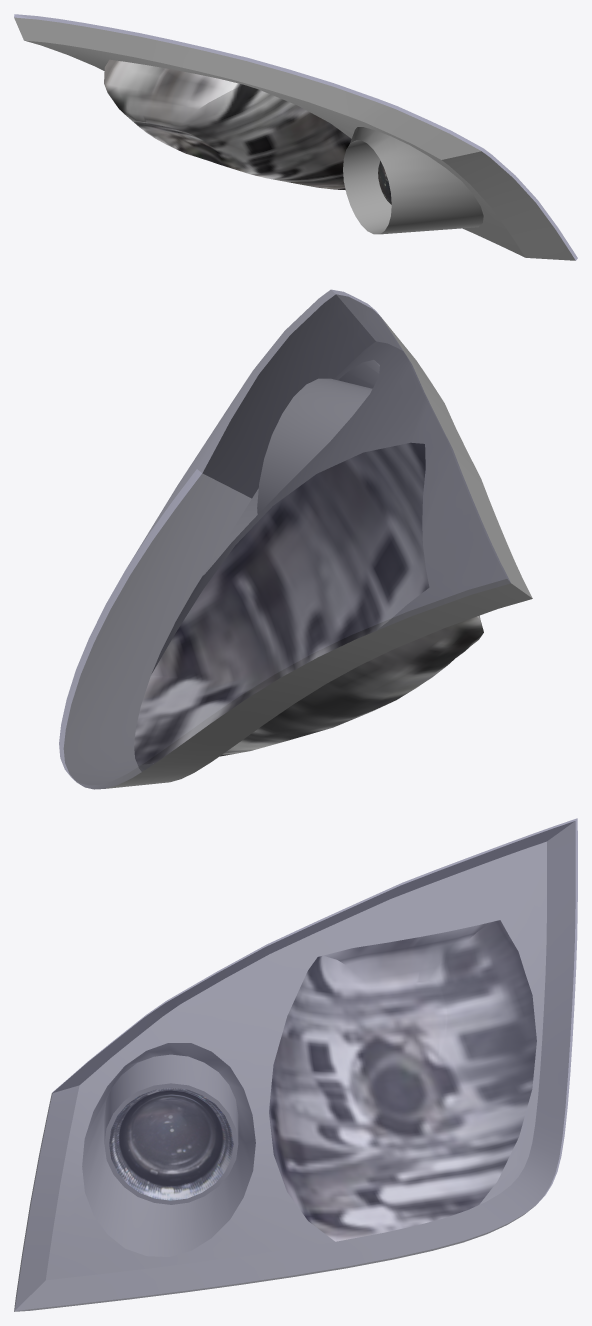
3 views of the same model, one above another, from view 1: azimuth 30°, elevation 25°; view 2: azimuth 150°, elevation 25°; view 3: azimuth 270°, elevation 25° (orthographic). The views are drawn at different scales.
Parts seen in each view (by area): view 1: P158_061B_L_P158_061B_L_3_DaS, P158_061B_L_P158_061B_L_2_N, P158_061B_L_P158_061B_L_5_DTaSI; view 2: P158_061B_L_P158_061B_L_5_DTaSI, P158_061B_L_P158_061B_L_3_DaS, P158_061B_L_P158_061B_L_2_N; view 3: P158_061B_L_P158_061B_L_5_DTaSI, P158_061B_L_P158_061B_L_3_DaS, P158_061B_L_P158_061B_L_2_N, P158_061B_L_1_N_P158_061B_L.
Boxes of the visible parts, box(x1,y1,x2,y2) form: P158_061B_L_P158_061B_L_3_DaS: box(14, 17, 575, 260); P158_061B_L_P158_061B_L_2_N: box(104, 59, 351, 189); P158_061B_L_P158_061B_L_5_DTaSI: box(14, 14, 577, 260); P158_061B_L_P158_061B_L_5_DTaSI: box(59, 289, 510, 789); P158_061B_L_P158_061B_L_3_DaS: box(63, 294, 532, 789); P158_061B_L_P158_061B_L_2_N: box(134, 443, 483, 764); P158_061B_L_P158_061B_L_5_DTaSI: box(14, 818, 577, 1311); P158_061B_L_P158_061B_L_3_DaS: box(14, 821, 575, 1311); P158_061B_L_P158_061B_L_2_N: box(269, 920, 536, 1241); P158_061B_L_1_N_P158_061B_L: box(109, 1087, 233, 1200).
Bounding box in the file's own units: 42.68 × 20.96 × 41.89.
